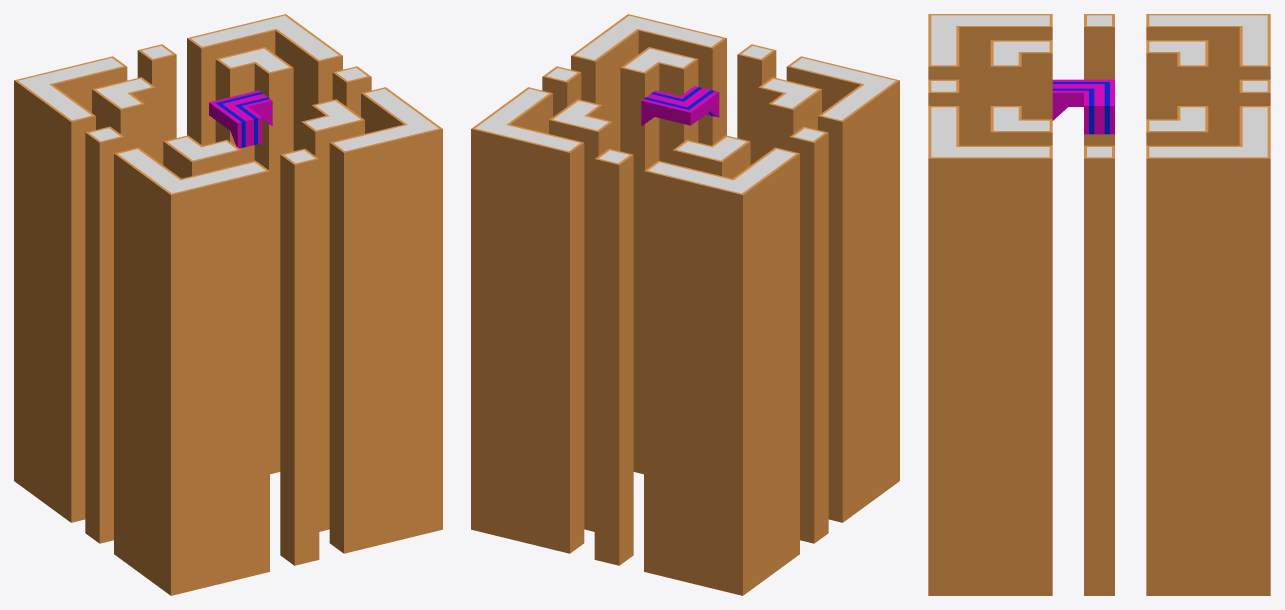
File: Stage3.fbx
3 views of the same model, side by side, from view 1: azimuth 30°, elevation 25°; view 2: azimuth 150°, elevation 25°; view 3: azimuth 270°, elevation 25° (orthographic). The views are drawn at different scales.
Visible parts, largest first — view 1: Cube, 立方体; view 2: Cube, 立方体; view 3: Cube, 立方体.
Boxes of the visible parts, box(x1,y1,x2,y2) form: Cube: box(14, 14, 442, 595); 立方体: box(209, 90, 272, 148); Cube: box(471, 14, 899, 595); 立方体: box(641, 86, 719, 126); Cube: box(928, 14, 1270, 595); 立方体: box(1052, 79, 1114, 134).
Bounding box in the file's own units: 2200 × 3100 × 2200.
